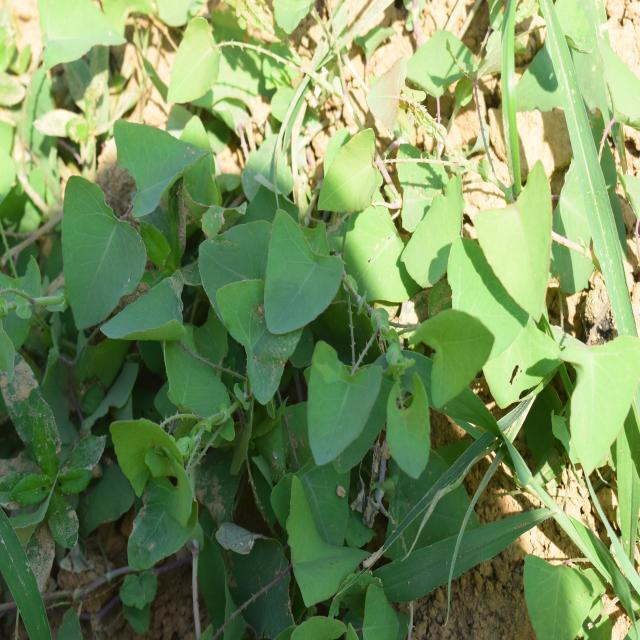Asiatic_Smartweed: (244, 131, 476, 468), (51, 110, 248, 379)
